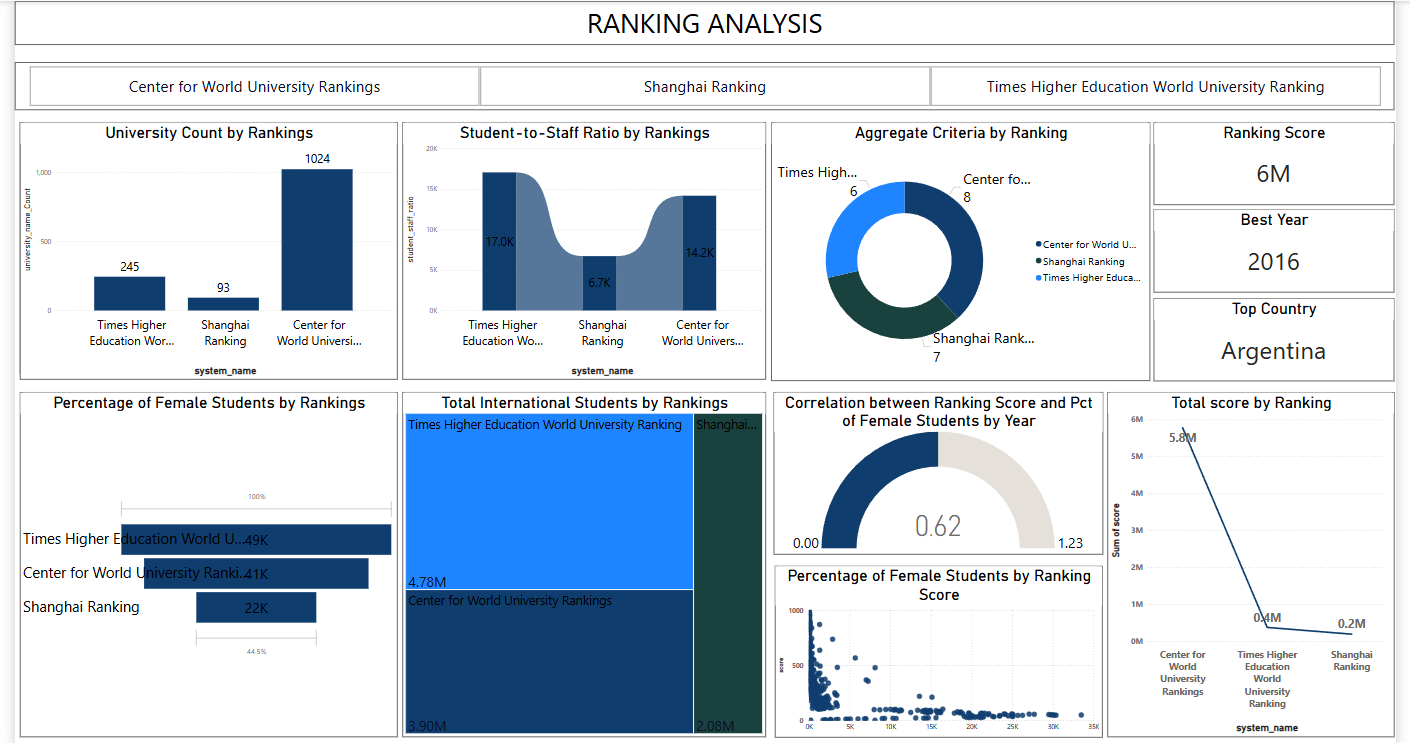

The dashboard page shown, as its layout file describes it:
{"tool":"powerbi","page":{"name":"Ranking Analysis","canvas":[2500,1350],"ordinal":2},"visuals":[{"type":"columnChart","title":"University Count by Rankings","fields":{"Category":["ranking_system.system_name"],"Y":["CountNonNull(university.university_name)"]},"box":[8.5,220.2,683.3,465.9],"z":1000},{"type":"ribbonChart","title":" Student-to-Staff Ratio by Rankings","fields":{"Category":["ranking_system.system_name"],"Y":["Sum(university_year.student_staff_ratio)"]},"box":[700.2,220.2,657.9,465.9],"z":2000},{"type":"donutChart","title":"Aggregate Criteria by Ranking","fields":{"Category":["ranking_system.system_name"],"Y":["CountNonNull(ranking_criteria.criteria_name)"]},"box":[1369.5,220.3,685.9,467.8],"z":3000},{"type":"funnel","title":" Percentage of Female Students by Rankings","fields":{"Category":["ranking_system.system_name"],"Y":["Sum(university_year.pct_female_students)"]},"box":[8.5,708.7,683.3,624],"z":4000},{"type":"treemap","title":"Total International Students by Rankings","fields":{"Group":["ranking_system.system_name"],"Values":["Sum(university_year.Total_Int_Student)"]},"box":[700.2,708.7,657.9,624],"z":5000},{"type":"gauge","title":"Correlation between Ranking Score and Pct of Female Students by Year","fields":{"Y":["country.score and pct_female_students correlation for year"]},"box":[1372.2,708.7,595.8,293.6],"z":6000},{"type":"scatterChart","title":"Percentage of Female Students by Ranking Score","fields":{"Y":["university_ranking_year.score"],"X":["Sum(university_year.pct_female_students)"]},"box":[1375.1,1022.1,592.9,310.6],"z":7000},{"type":"textbox","box":[0,0,2495.9,79.5],"z":10000},{"type":"lineChart","title":"Total score by Ranking","fields":{"Y":["Sum(university_ranking_year.score)"],"Category":["ranking_system.system_name"]},"box":[1976.5,708.7,519.5,624],"z":11000},{"type":"card","title":"Ranking Score","fields":{"Values":["Sum(university_ranking_year.score)"]},"box":[2061.2,220.2,434.8,149.6],"z":12000},{"type":"card","title":"Best Year","fields":{"Values":["Max(university_ranking_year.year)"]},"box":[2061.2,378.4,434.8,149.6],"z":13000},{"type":"card","title":"Top Country","fields":{"Values":["Min(country.country_name)"]},"box":[2061.2,539.3,434.8,149.6],"z":14000},{"type":"slicer","fields":{"Values":["ranking_system.system_name"]},"box":[0,111.3,2495.9,86.3],"z":15001}]}

Visuals, with their boxes in screenshot pixels (x1, y1, x2, y2), scaled from the page's 2500x1350 canvas onto the 1410x743 screenshot:
"University Count by Rankings" columnChart: region(5, 121, 390, 378)
" Student-to-Staff Ratio by Rankings" ribbonChart: region(395, 121, 766, 378)
"Aggregate Criteria by Ranking" donutChart: region(772, 121, 1159, 379)
" Percentage of Female Students by Rankings" funnel: region(5, 390, 390, 733)
"Total International Students by Rankings" treemap: region(395, 390, 766, 733)
"Correlation between Ranking Score and Pct of Female Students by Year" gauge: region(774, 390, 1110, 552)
"Percentage of Female Students by Ranking Score" scatterChart: region(776, 563, 1110, 733)
textbox: region(0, 0, 1408, 44)
"Total score by Ranking" lineChart: region(1115, 390, 1408, 733)
"Ranking Score" card: region(1163, 121, 1408, 204)
"Best Year" card: region(1163, 208, 1408, 291)
"Top Country" card: region(1163, 297, 1408, 379)
slicer - ranking_system.system_name: region(0, 61, 1408, 109)
